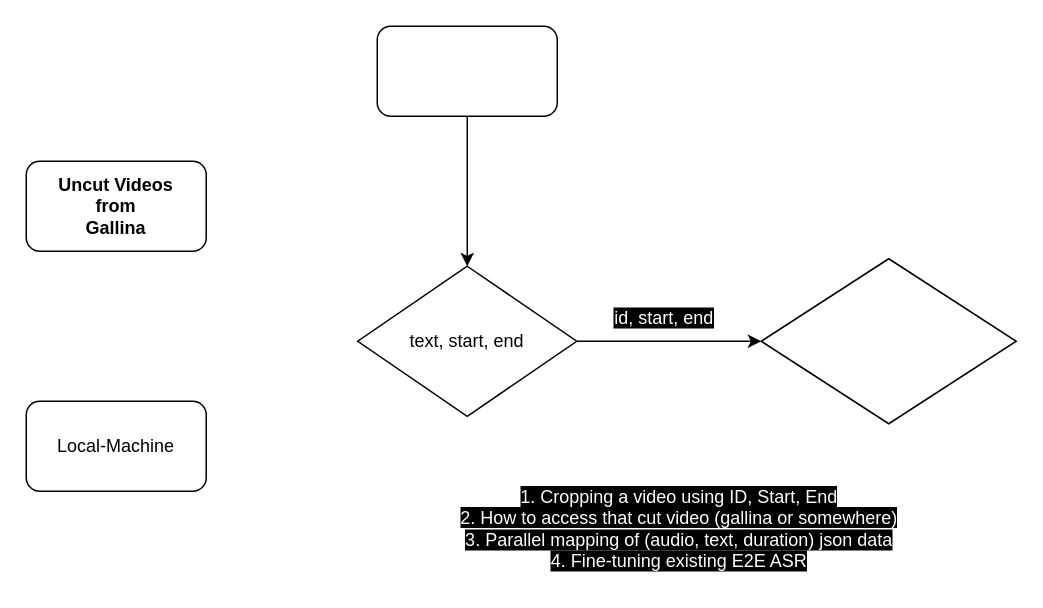
This 1043x608 diagram has some shape labels left out. Here are the shapes that lost their labels. From the top down, the centre of each, then its label:
At point 466,70: "VRT Files".
At point 888,340: "cut-video_start_end".
